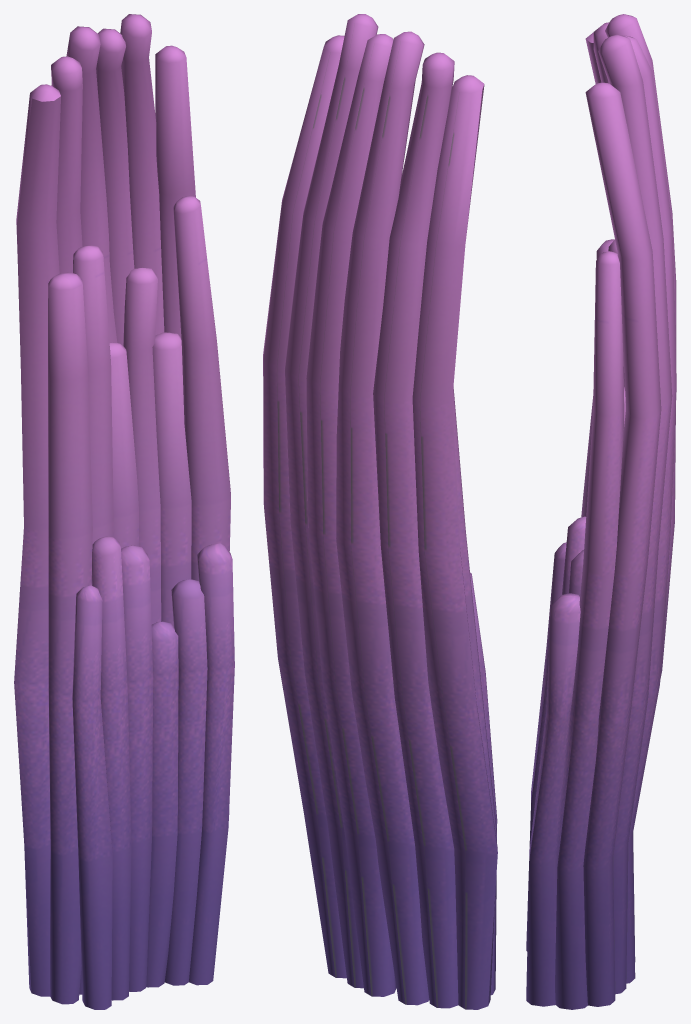
The model's file is M_BigAlge.FBX.
3 views of the same model, side by side, from view 1: azimuth 30°, elevation 25°; view 2: azimuth 150°, elevation 25°; view 3: azimuth 270°, elevation 25° (orthographic). The views are drawn at different scales.
Parts seen in each view (by area): view 1: Bigalgae; view 2: Bigalgae; view 3: Bigalgae.
Part boxes in pixels (x1,y1,x2,y2): Bigalgae: [14, 14, 234, 1009]; Bigalgae: [263, 14, 497, 1009]; Bigalgae: [526, 14, 676, 1009].
Size of the model in its own units: 30.88 by 132 by 18.87.
1 material, 1 textured.
